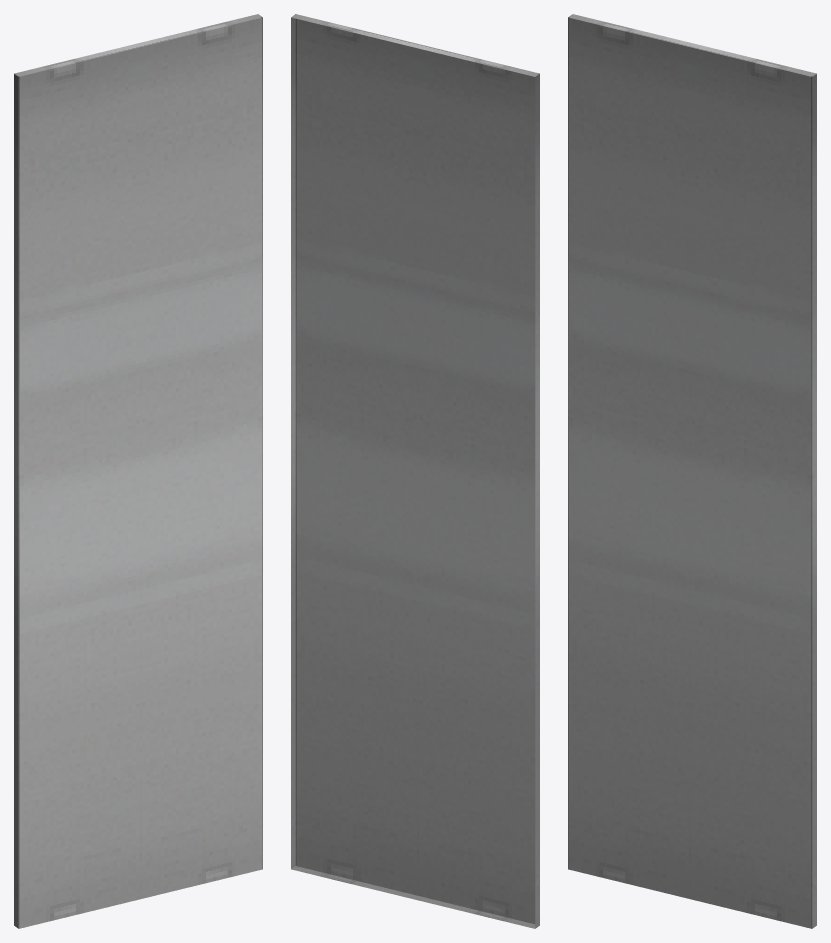
Rendered from BathMirror.glb.
3 views of the same model, side by side, from view 1: azimuth 30°, elevation 25°; view 2: azimuth 150°, elevation 25°; view 3: azimuth 330°, elevation 25° (orthographic).
Visible parts, largest first — view 1: bath mirror; view 2: bath mirror; view 3: bath mirror.
Boxes of the visible parts, box(x1,y1,x2,y2) form: bath mirror: box(14, 14, 262, 928); bath mirror: box(291, 14, 539, 928); bath mirror: box(568, 14, 816, 928).
Bounding box in the file's own units: 0.3 × 1 × 0.01.
1 material, 1 textured.
